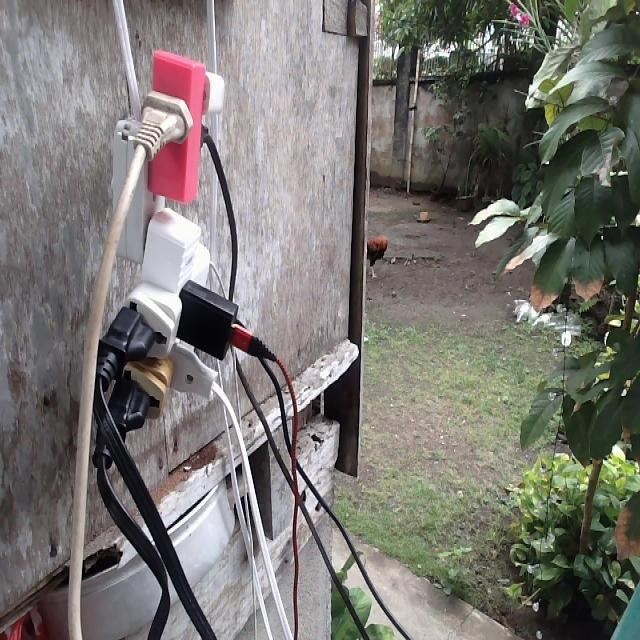-: (96, 49, 269, 468)
